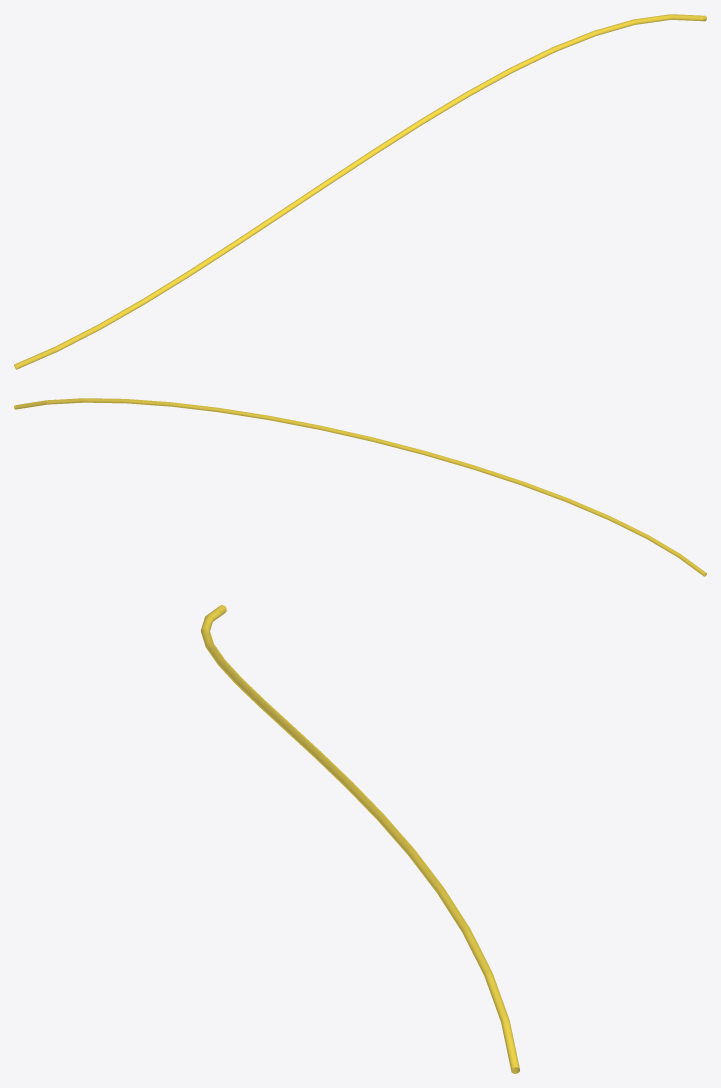
Rendered from Event_75125125_track_107.fbx.
The picture shows the model from 3 angles, top to bottom: view 1: azimuth 30°, elevation 25°; view 2: azimuth 150°, elevation 25°; view 3: azimuth 270°, elevation 25°; orthographic projection. The views are drawn at different scales.
Visible parts, largest first — view 1: Model; view 2: Model; view 3: Model.
Boxes of the visible parts, bbox=[...] form: Model: bbox=[14, 14, 706, 369]; Model: bbox=[14, 398, 706, 576]; Model: bbox=[201, 605, 519, 1073].
Size of the model in its own units: 6.35 by 0.9559 by 1.42.
